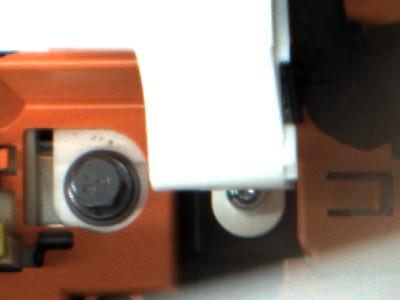nut_b: (60, 147, 146, 230)
